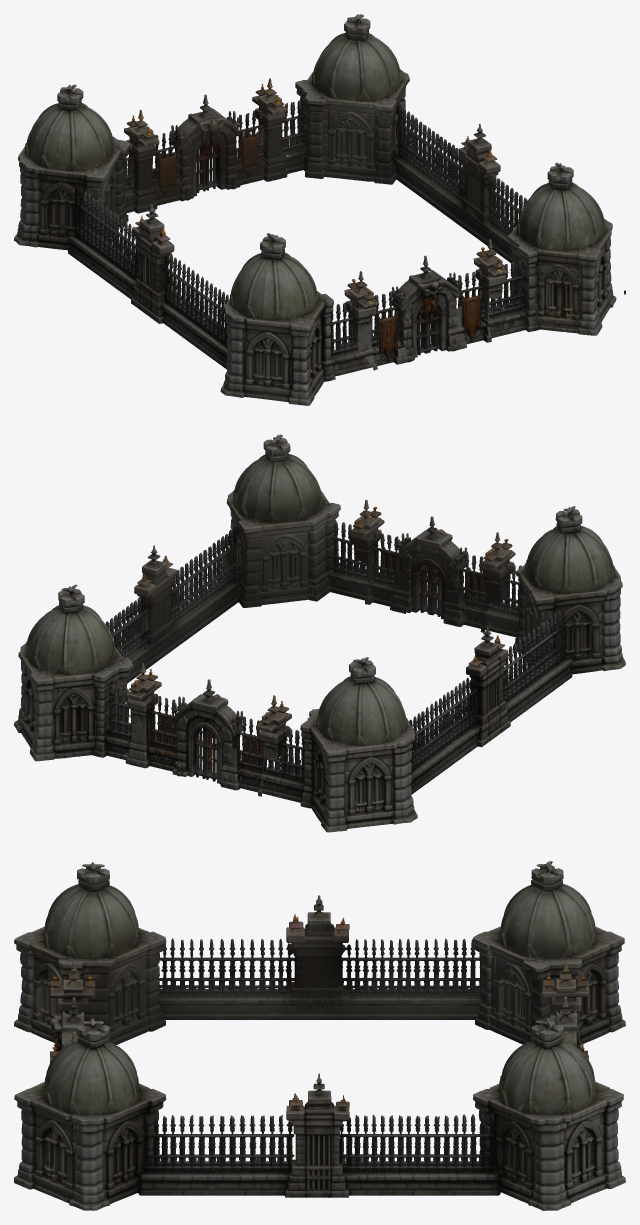
File: lordaeron-cemetery-perimeter.glb
3 views of the same model, one above another, from view 1: azimuth 30°, elevation 25°; view 2: azimuth 150°, elevation 25°; view 3: azimuth 270°, elevation 25° (orthographic). The views are drawn at different scales.
Parts seen in each view (by area): view 1: Lordaeron_Perimeter_Export; view 2: Lordaeron_Perimeter_Export; view 3: Lordaeron_Perimeter_Export.
Part boxes in pixels (x1,y1,x2,y2): Lordaeron_Perimeter_Export: (14, 14, 625, 405); Lordaeron_Perimeter_Export: (14, 434, 625, 832); Lordaeron_Perimeter_Export: (14, 861, 625, 1210).
Size of the model in its own units: 0.8282 by 0.2963 by 0.9997.
Materials: 1 (1 with a texture image).
